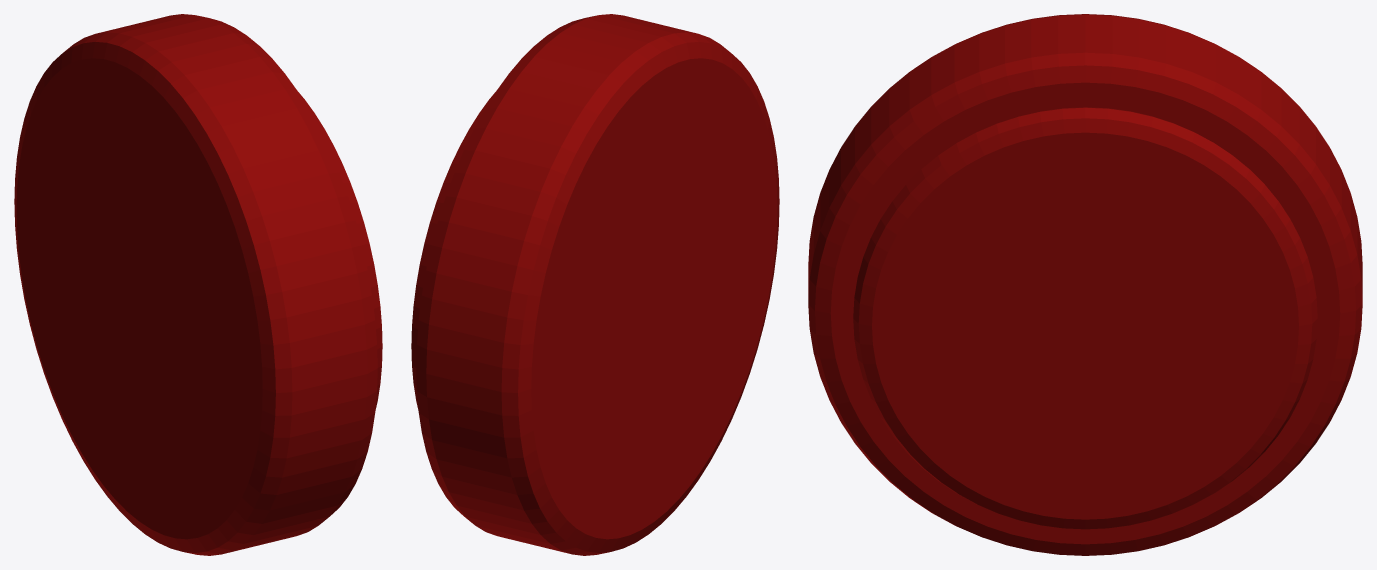
The model's file is SM_WinchEmergencyCap.obj.
3 renders of one model, left to right at view 1: azimuth 30°, elevation 25°; view 2: azimuth 150°, elevation 25°; view 3: azimuth 270°, elevation 25°, orthographic. The views are drawn at different scales.
Parts seen in each view (by area): view 1: SM_WinchEmergencyCap; view 2: SM_WinchEmergencyCap; view 3: SM_WinchEmergencyCap.
Boxes of the visible parts, x1,y1,x2,y2 form: SM_WinchEmergencyCap: [14, 14, 382, 555]; SM_WinchEmergencyCap: [411, 14, 779, 555]; SM_WinchEmergencyCap: [808, 14, 1362, 555].
Size of the model in its own units: 2.2 by 7.4 by 7.4.
